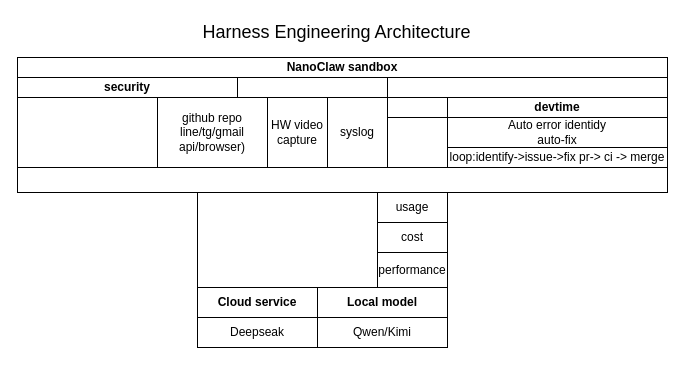
Some shapes in this 685 by 365 pixel diagram are drawn without their labels. The box of each missing label's shape, as (x1, y1, x2, y2) in pixels:
action: (386, 76, 668, 98)
Finite authorization for pre-assigned application/port: (16, 96, 158, 168)
Low cost AI backend: (16, 166, 668, 192)
ordering backtest alert: (386, 116, 448, 168)
runtime: (386, 96, 448, 118)
sensing: (236, 76, 388, 98)
telemetry orchestration: (196, 192, 378, 288)
